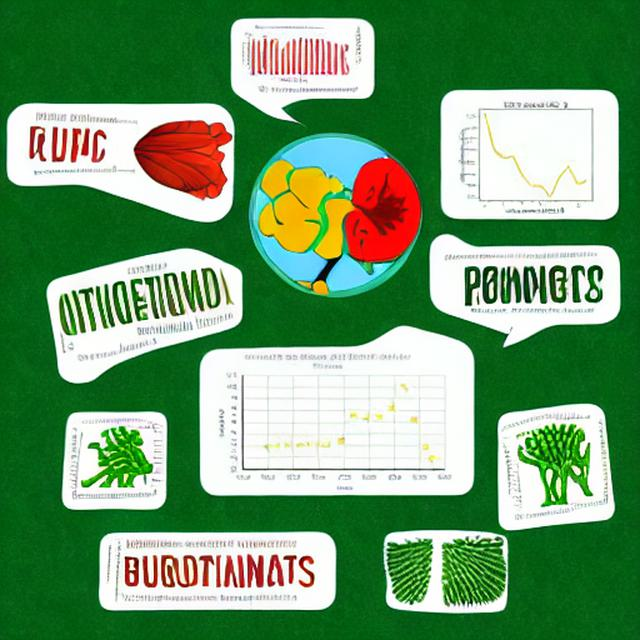Graph: (213, 350, 455, 493), (455, 95, 613, 214), (239, 24, 339, 83)
